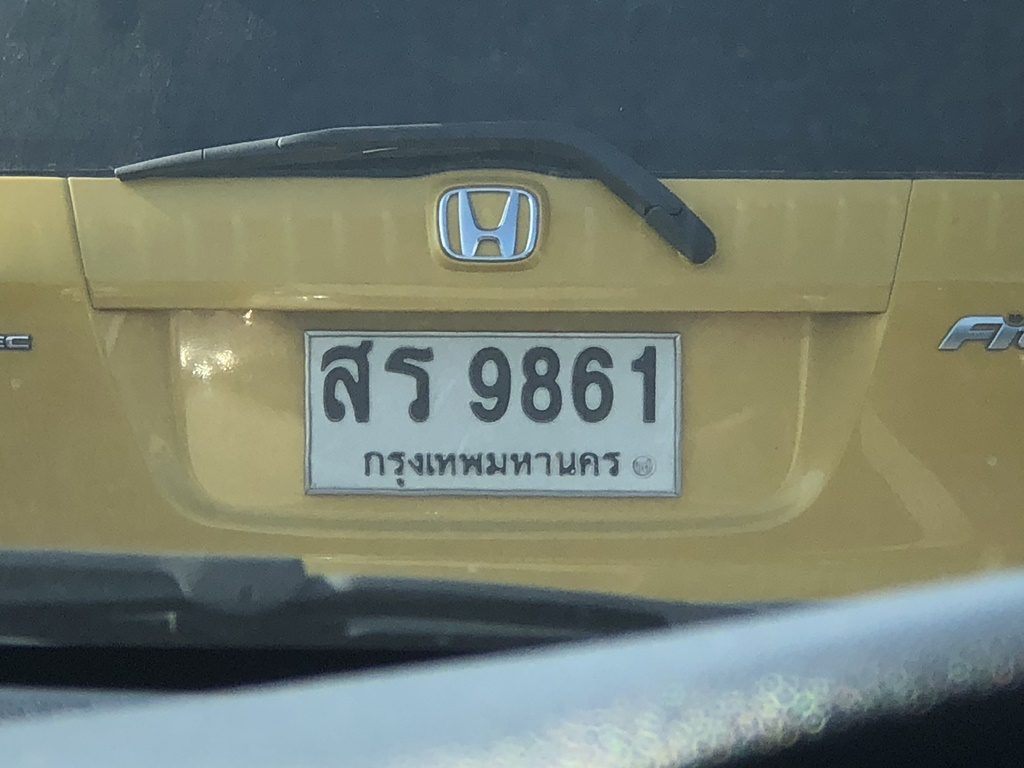eight: (517, 344, 567, 433)
nine: (459, 341, 517, 432)
one: (624, 340, 666, 440)
six: (565, 342, 621, 436)
